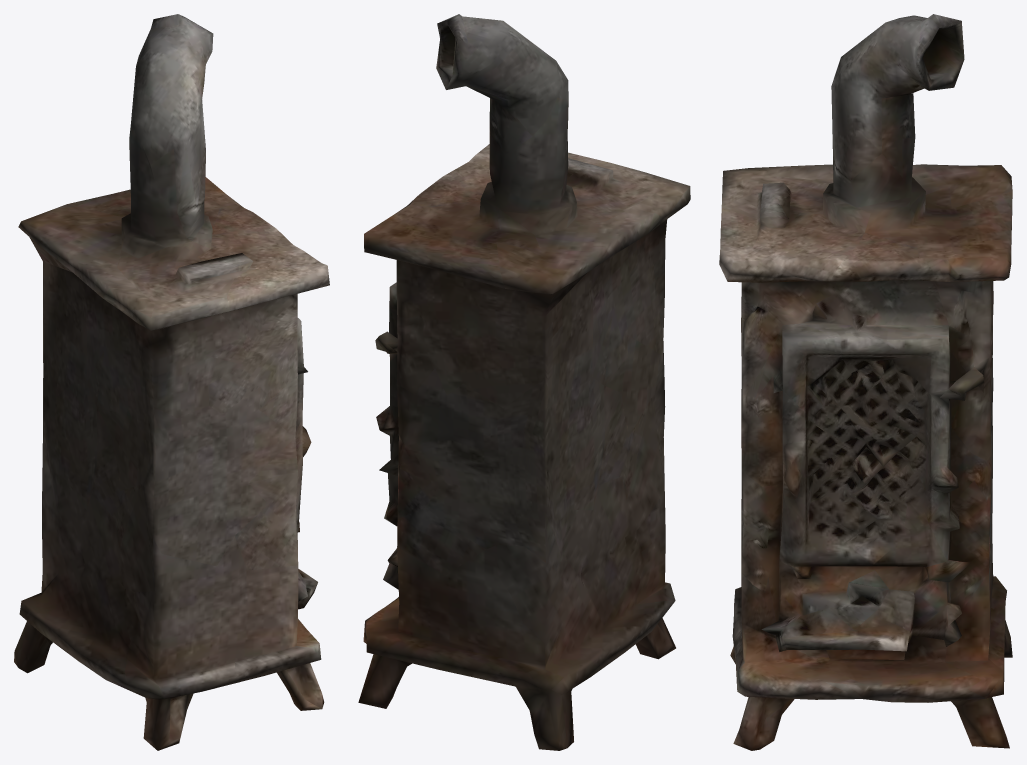
File: e_burzhuyka.glb
The picture shows the model from 3 angles, left to right: view 1: azimuth 30°, elevation 25°; view 2: azimuth 150°, elevation 25°; view 3: azimuth 270°, elevation 25°; orthographic projection. The views are drawn at different scales.
Visible parts, largest first — view 1: tripo_node_0b8af59a-129f-473a-88f0-43207c0aaa43; view 2: tripo_node_0b8af59a-129f-473a-88f0-43207c0aaa43; view 3: tripo_node_0b8af59a-129f-473a-88f0-43207c0aaa43.
Part boxes in pixels (x1=…): tripo_node_0b8af59a-129f-473a-88f0-43207c0aaa43: x1=14, y1=14, x2=329, y2=750; tripo_node_0b8af59a-129f-473a-88f0-43207c0aaa43: x1=358, y1=14, x2=690, y2=750; tripo_node_0b8af59a-129f-473a-88f0-43207c0aaa43: x1=719, y1=14, x2=1012, y2=750.
Size of the model in its own units: 0.335 by 1 by 0.3777.
1 material, 1 textured.
